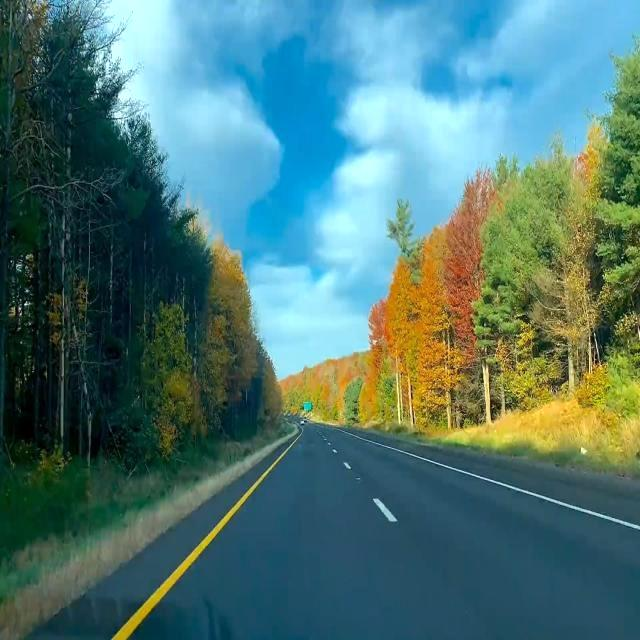road: (132, 423, 639, 639), (26, 451, 278, 639), (349, 430, 639, 524)
